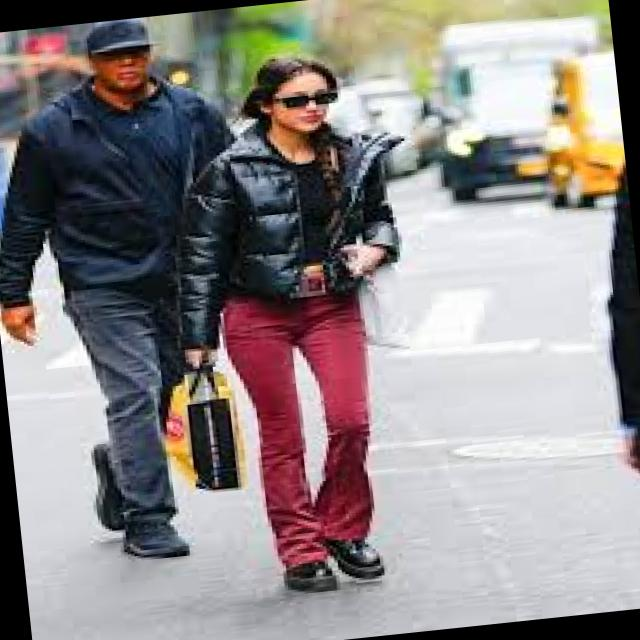Jacket: (136, 106, 438, 397), (0, 60, 257, 345)
